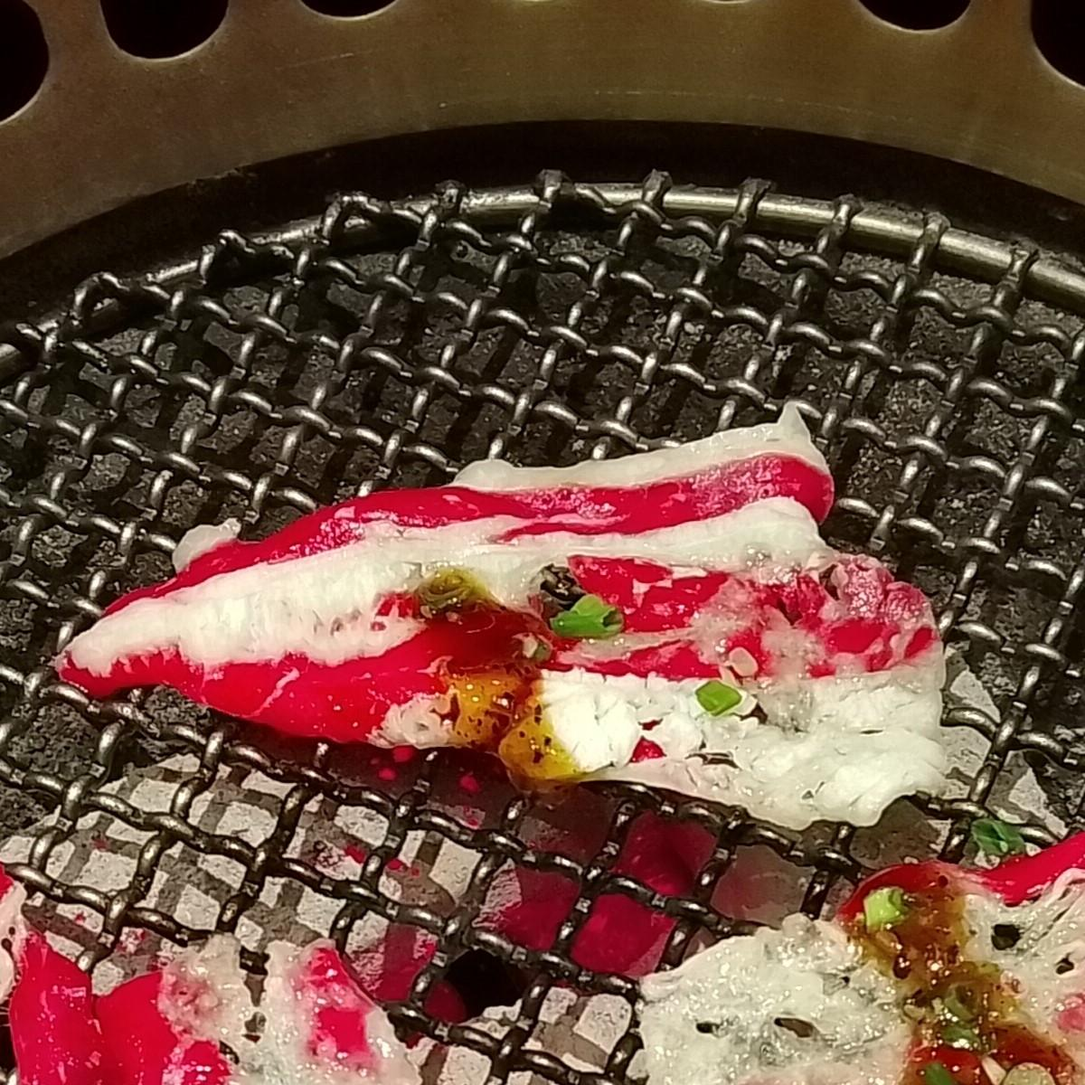Undercooked: (56, 405, 948, 831), (642, 835, 1084, 1084), (0, 864, 420, 1084)
